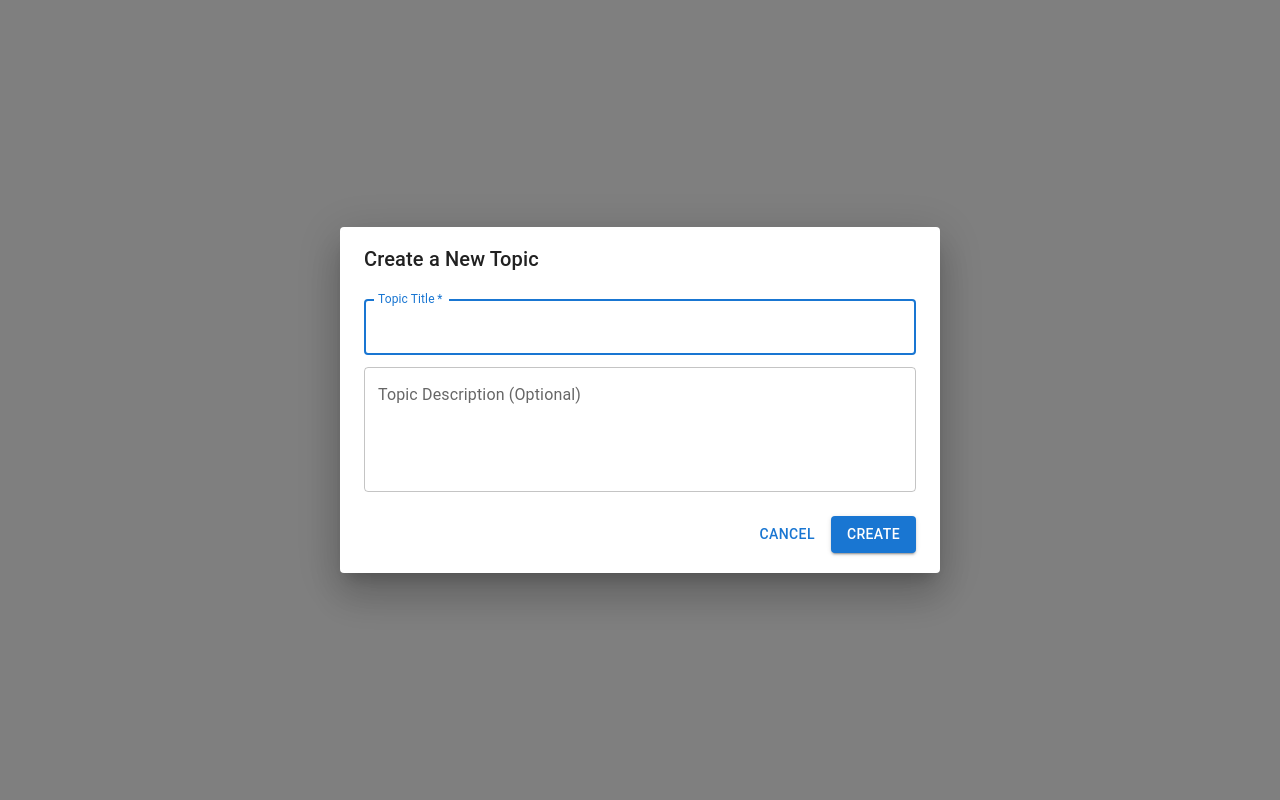
Test: CreateTopicModal › shows error if title is missing on create
Click the button with test id "create-button". click: (873,535)
box: [831,516,916,553]
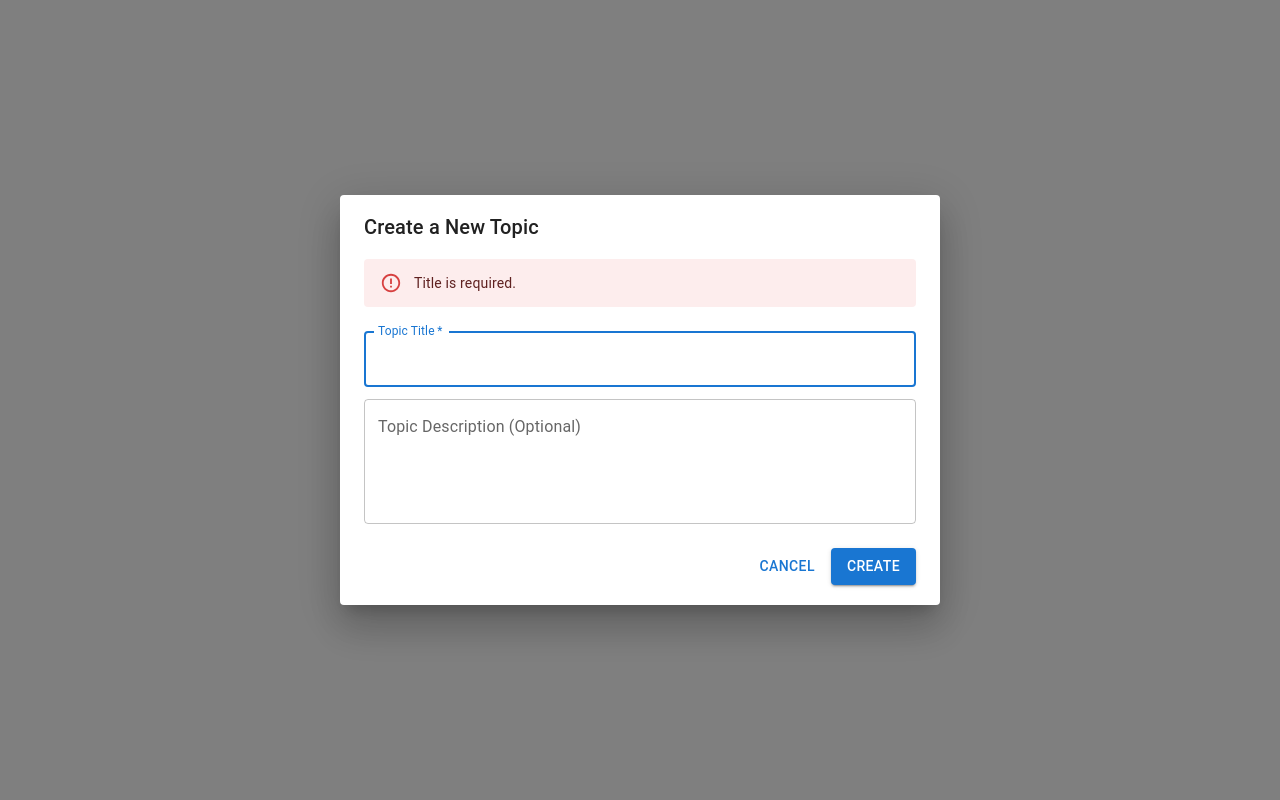
Expected: the message with test id "error-message" shows "Title is required", [414,275,516,291]
